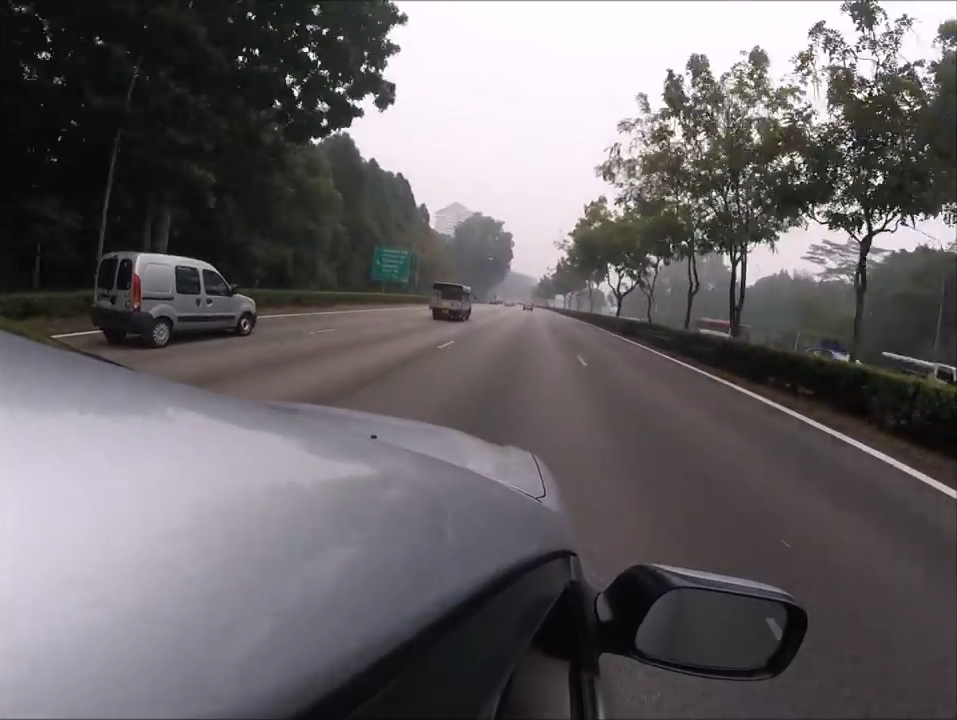bus: (690, 313, 754, 356), (428, 279, 477, 323)
car: (87, 249, 264, 353), (790, 343, 871, 390), (520, 299, 535, 312)
